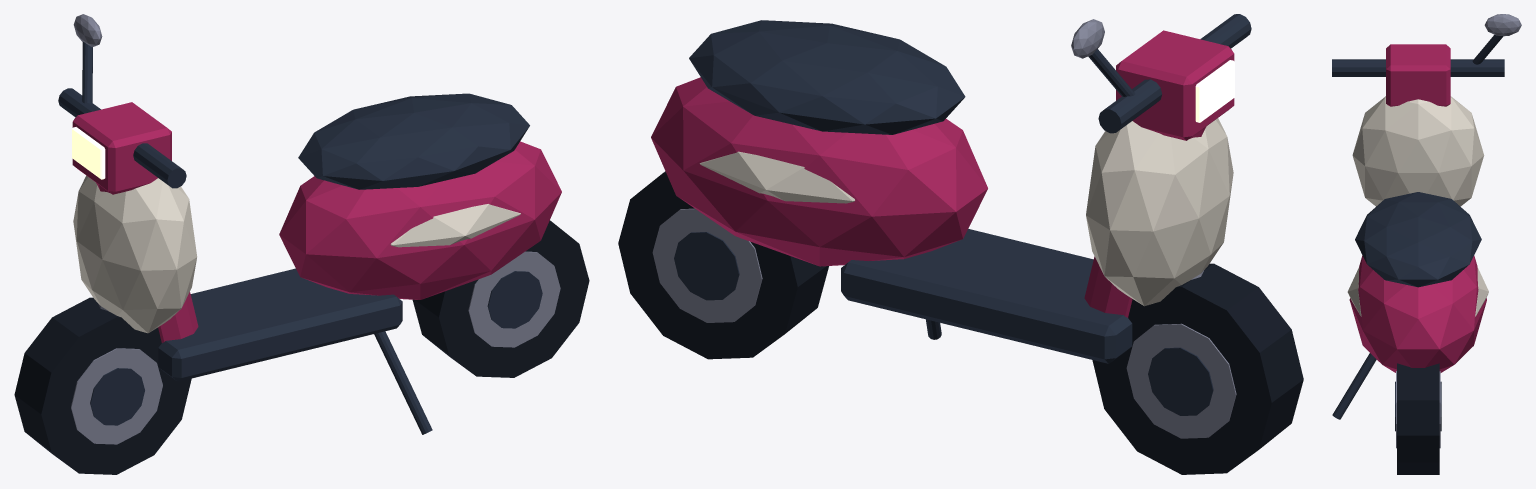
File: parked-scooter.glb
3 renders of one model, left to right at view 1: azimuth 30°, elevation 25°; view 2: azimuth 150°, elevation 25°; view 3: azimuth 270°, elevation 25°, orthographic. The views are drawn at different scales.
Parts seen in each view (by area): view 1: Rear_shell, Saddle, Footboard, Wheel, Front_shield, Wheel.003, Head_unit, Wheel.001, Wheel.004, Side_cover, Wheel.002, Wheel.005 (+6 smaller); view 2: Rear_shell, Saddle, Footboard, Front_shield, Wheel, Wheel.003, Head_unit, Wheel.001, Wheel.004, Side_cover, Wheel.005, Wheel.002 (+5 smaller); view 3: Front_shield, Rear_shell, Saddle, Wheel.003, Head_unit, Handlebar, Kickstand, Mirror, Side_cover, Mirror_stem, Wheel.004.
Part boxes in pixels (x1,y1,x2,y2): Rear_shell: (279, 141, 561, 299); Saddle: (298, 93, 529, 189); Footboard: (158, 268, 402, 381); Wheel: (14, 297, 191, 474); Front_shield: (73, 175, 197, 333); Wheel.003: (412, 220, 589, 377); Head_unit: (72, 102, 171, 194); Wheel.001: (71, 348, 162, 444); Wheel.004: (468, 251, 560, 347); Side_cover: (390, 204, 520, 247); Wheel.002: (90, 368, 144, 425); Wheel.005: (487, 271, 542, 328); Rear_shell: (651, 77, 987, 266); Saddle: (689, 20, 965, 134); Footboard: (841, 229, 1132, 363); Front_shield: (1086, 118, 1233, 306); Wheel: (1092, 263, 1303, 474); Wheel.003: (618, 171, 828, 359); Head_unit: (1116, 30, 1234, 140); Wheel.001: (1126, 323, 1236, 438); Wheel.004: (652, 208, 762, 322); Side_cover: (699, 151, 854, 203); Wheel.005: (674, 232, 739, 300); Wheel.002: (1148, 347, 1213, 415); Front_shield: (1352, 96, 1484, 206); Rear_shell: (1349, 255, 1486, 372); Saddle: (1355, 192, 1481, 287); Wheel.003: (1397, 363, 1439, 474); Head_unit: (1386, 44, 1450, 106); Handlebar: (1332, 59, 1504, 76); Kickstand: (1332, 353, 1376, 419); Mirror: (1484, 14, 1521, 36); Side_cover: (1347, 267, 1488, 316); Mirror_stem: (1472, 34, 1503, 64); Wheel.004: (1396, 371, 1440, 448).
Size of the model in its own units: 1.71 by 1.19 by 0.649.
Materials: 2 (2 with a texture image).
